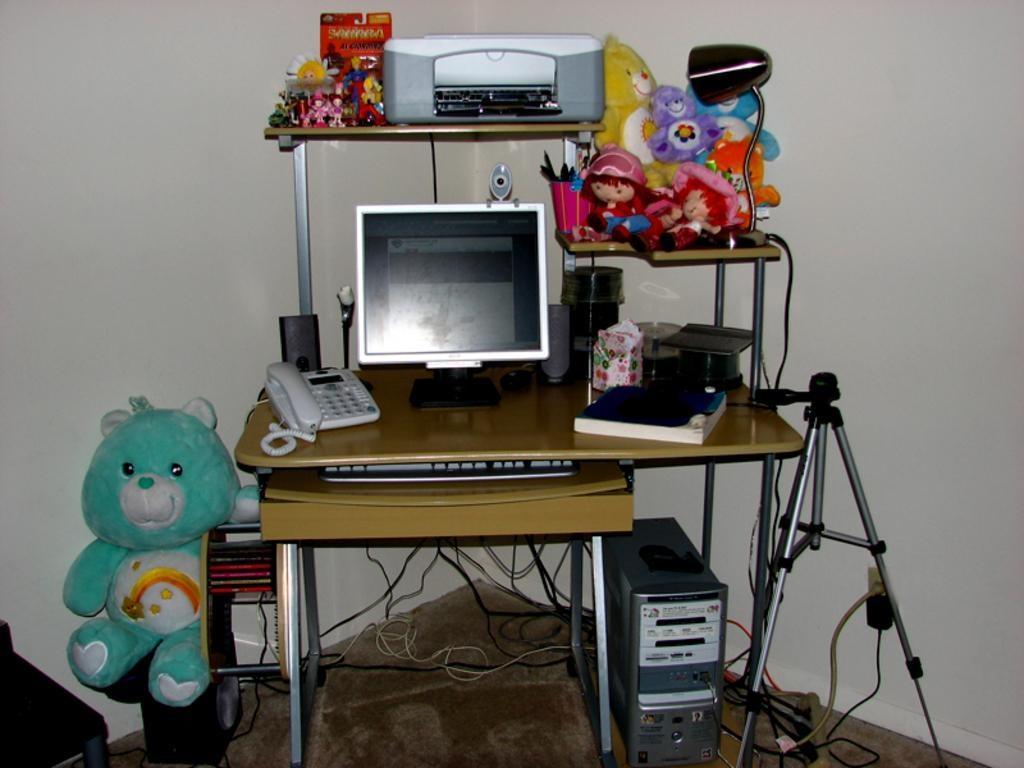AIO PC-Monitor-TV: (353, 202, 548, 369)
Printer: (380, 32, 605, 122)
